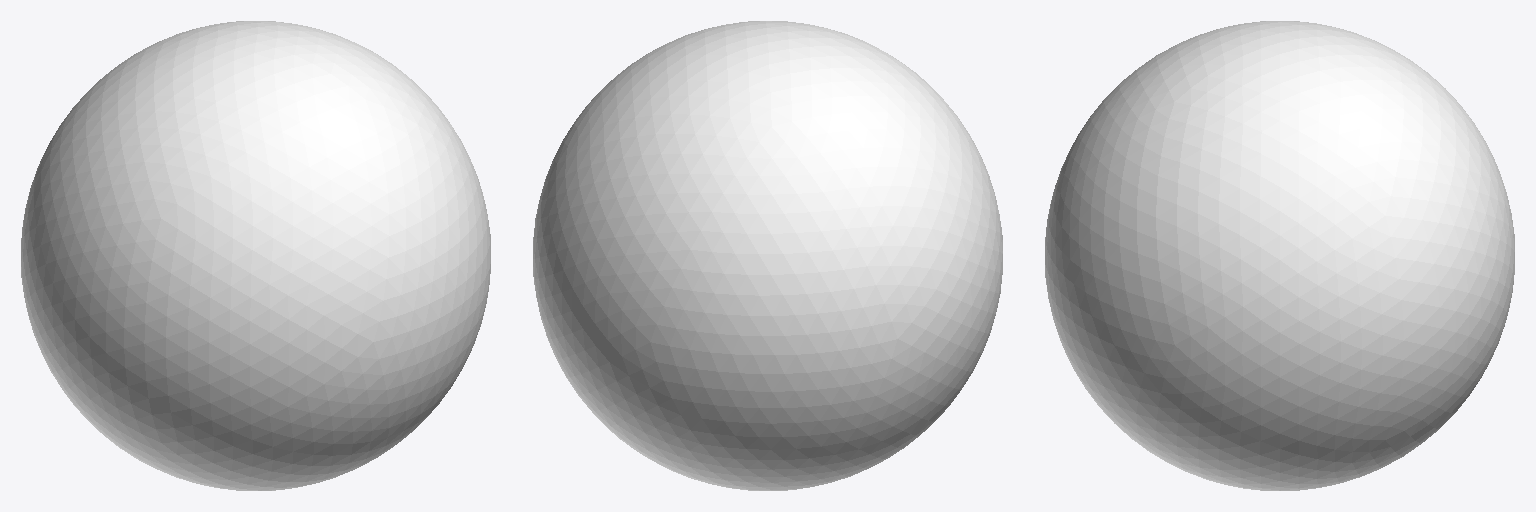
The picture shows the model from 3 angles: view 1: azimuth 30°, elevation 25°; view 2: azimuth 150°, elevation 25°; view 3: azimuth 270°, elevation 25°; orthographic projection.
Visible parts, largest first — view 1: geosphere; view 2: geosphere; view 3: geosphere.
Part boxes in pixels (left/top/right/bottom): geosphere: left=21, top=21, right=490, bottom=490; geosphere: left=533, top=21, right=1002, bottom=490; geosphere: left=1045, top=21, right=1514, bottom=490.
Size of the model in its own units: 2 by 2 by 2.